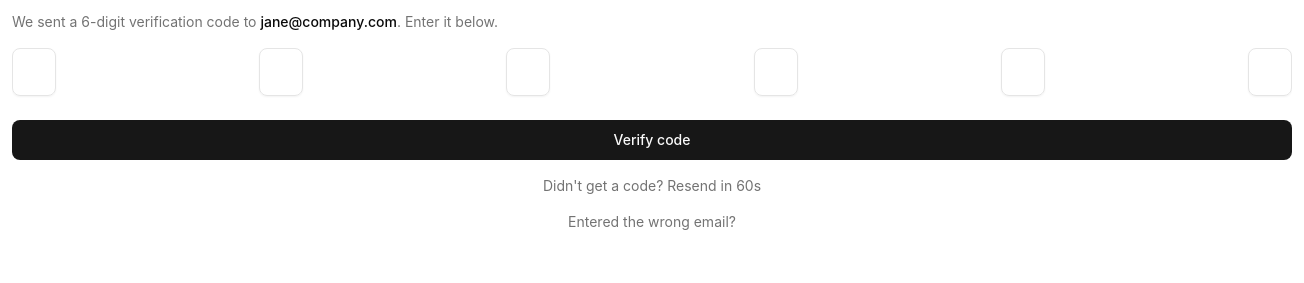
Scenario: VerifyStep › shows a locked-out-specific message for error_code "locked_out"
Type "0" into the field named "Digit 1 of 6" at (34, 72), box [12,48,56,96]
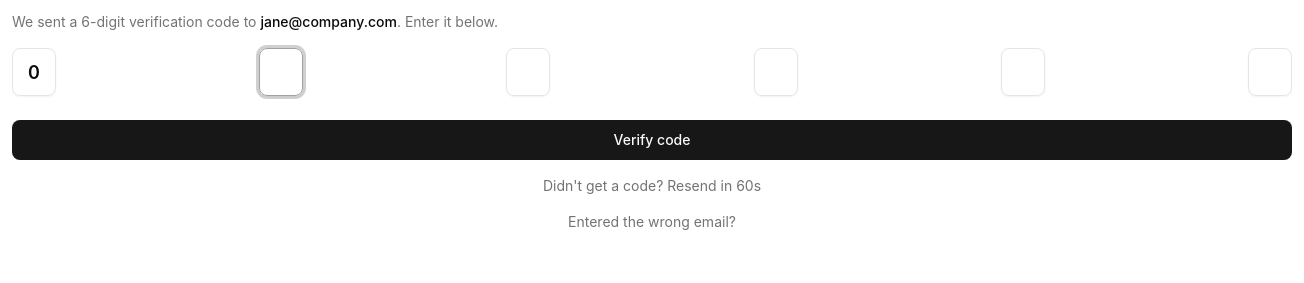
Type "0" into the field named "Digit 2 of 6" at (281, 72), box [259,48,303,96]
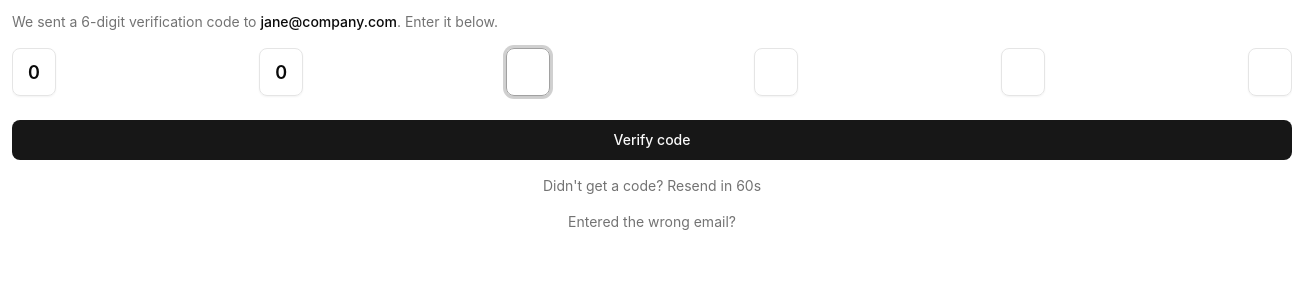
Type "0" into the field named "Digit 3 of 6" at (528, 72), box [506,48,550,96]
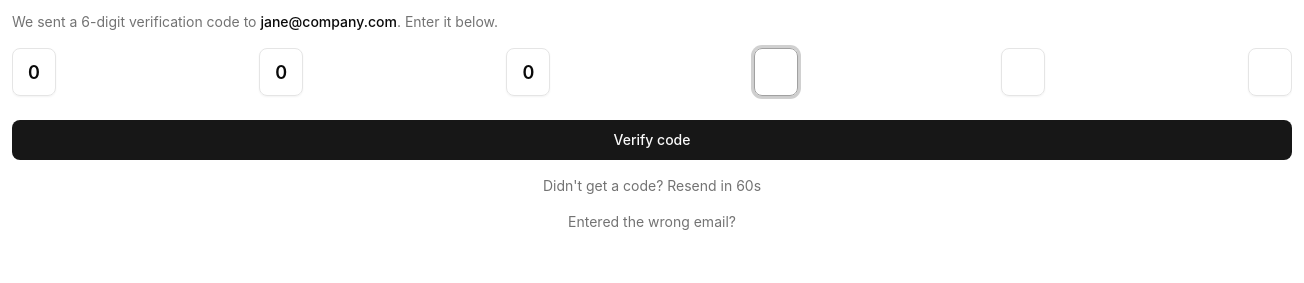
Type "0" into the field named "Digit 4 of 6" at (776, 72), box [754,48,798,96]
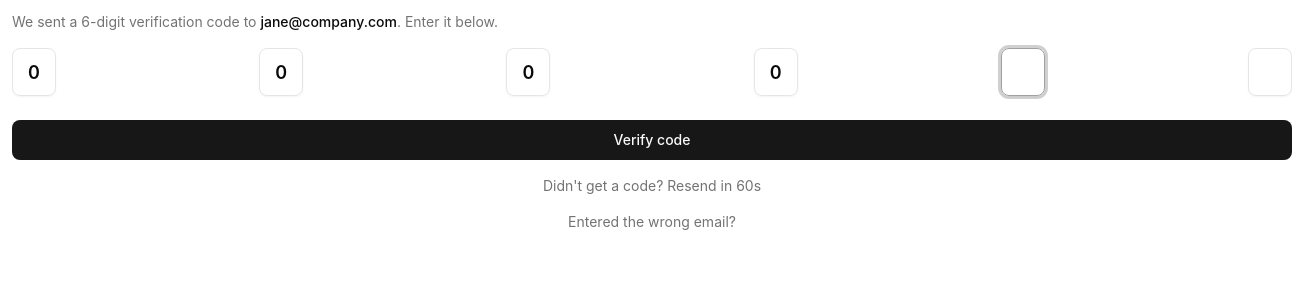
Type "0" into the field named "Digit 5 of 6" at (1023, 72), box [1001,48,1045,96]
Type "0" into the field named "Digit 6 of 6" at (1270, 72), box [1248,48,1292,96]
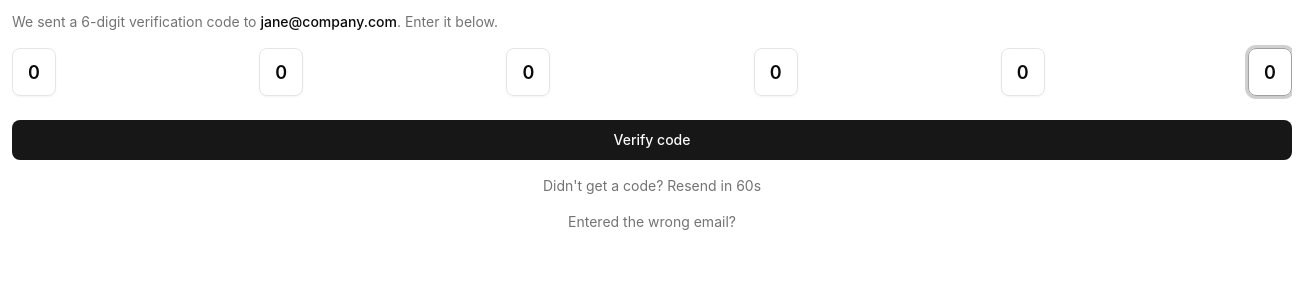
Click the button "Verify code" at (652, 140), box [12,120,1292,160]
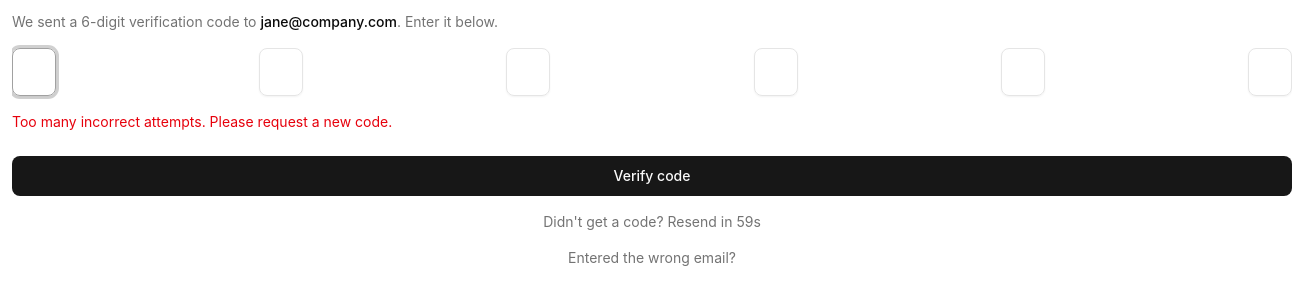
Expected: the text "Too many incorrect attempts. Please request a new code." is shown, [12,113,392,130]
